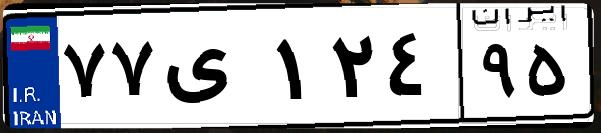1: (270, 28, 330, 110)
2: (330, 28, 385, 110)
4: (385, 28, 445, 110)
5: (525, 38, 570, 115)
7: (57, 26, 110, 100), (110, 28, 158, 98)
9: (475, 38, 525, 113)
ی: (158, 20, 270, 120)
